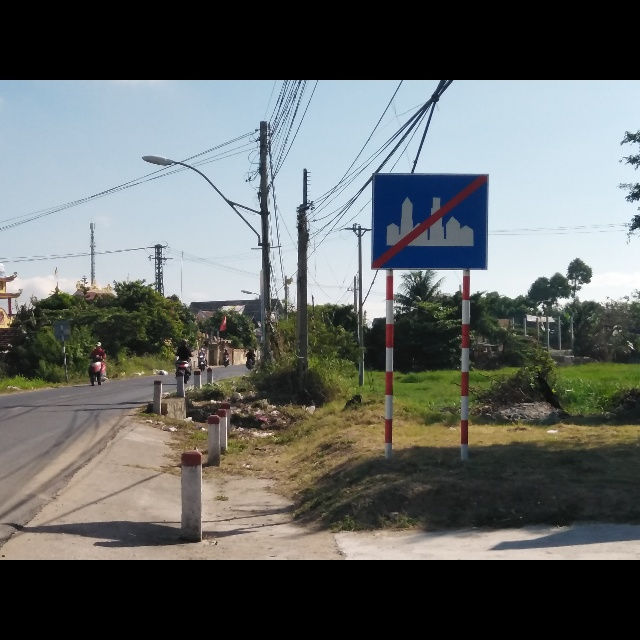Hết khu đông dân cư: (370, 170, 490, 271)
